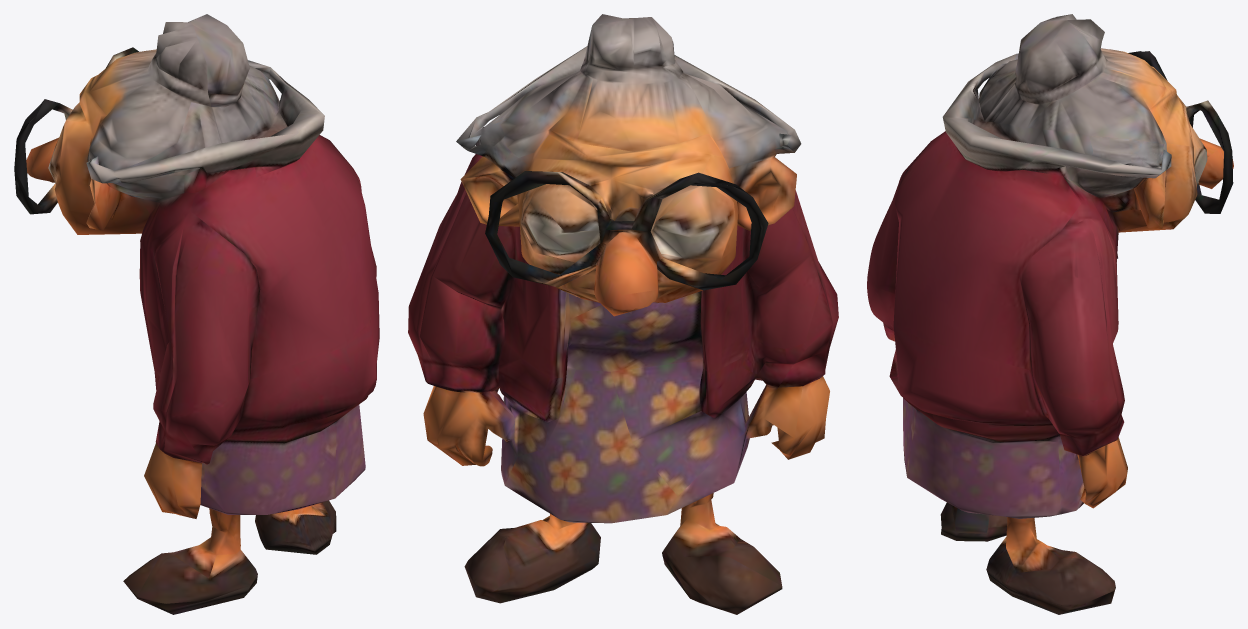
File: abuelita.glb
3 renders of one model, left to right at view 1: azimuth 30°, elevation 25°; view 2: azimuth 150°, elevation 25°; view 3: azimuth 270°, elevation 25°, orthographic. The views are drawn at different scales.
Parts seen in each view (by area): view 1: Cabeza, Torso, BrazoIzquierdo, PiernaIzquierda, PiernaDerecha, BrazoDerecho; view 2: Cabeza, Torso, BrazoDerecho, BrazoIzquierdo, PiernaDerecha, PiernaIzquierda; view 3: Cabeza, BrazoDerecho, Torso, PiernaDerecha, PiernaIzquierda.
Part boxes in pixels (x1=…): Cabeza: x1=14, y1=14, x2=362, y2=278; Torso: x1=30, y1=174, x2=376, y2=540; BrazoIzquierdo: x1=139, y1=239, x2=224, y2=518; PiernaIzquierda: x1=123, y1=508, x2=257, y2=614; PiernaDerecha: x1=255, y1=500, x2=336, y2=554; BrazoDerecho: x1=353, y1=186, x2=379, y2=467; Cabeza: x1=456, y1=14, x2=801, y2=309; Torso: x1=456, y1=188, x2=770, y2=523; BrazoDerecho: x1=408, y1=193, x2=506, y2=467; BrazoIzquierdo: x1=713, y1=190, x2=838, y2=459; PiernaDerecha: x1=464, y1=513, x2=600, y2=603; PiernaIzquierda: x1=662, y1=493, x2=782, y2=614; Cabeza: x1=895, y1=14, x2=1233, y2=273; BrazoDerecho: x1=912, y1=253, x2=1127, y2=518; Torso: x1=867, y1=168, x2=1233, y2=516; PiernaDerecha: x1=986, y1=517, x2=1115, y2=614; PiernaIzquierda: x1=940, y1=502, x2=1007, y2=541.
Size of the model in its own units: 0.7582 by 1.14 by 0.7201.
1 material, 1 textured.
